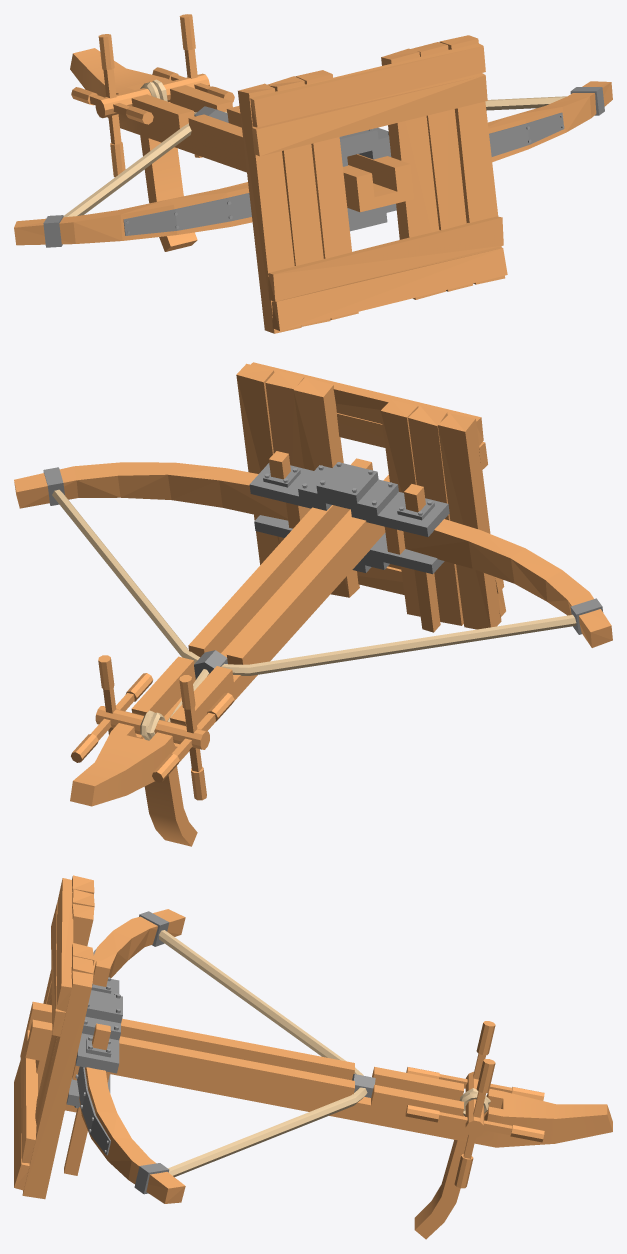
Rendered from ballista.fbx.
The picture shows the model from 3 angles, top to bottom: view 1: azimuth 30°, elevation 25°; view 2: azimuth 150°, elevation 25°; view 3: azimuth 270°, elevation 25°; orthographic projection. The views are drawn at different scales.
Visible parts, largest first — view 1: ballista; view 2: ballista; view 3: ballista.
Part boxes in pixels (left/top/right/bottom): ballista: left=14, top=14, right=612, bottom=333; ballista: left=14, top=362, right=612, bottom=846; ballista: left=14, top=875, right=612, bottom=1239.
Bounding box in the file's own units: 3.54 × 1.8 × 3.2.
